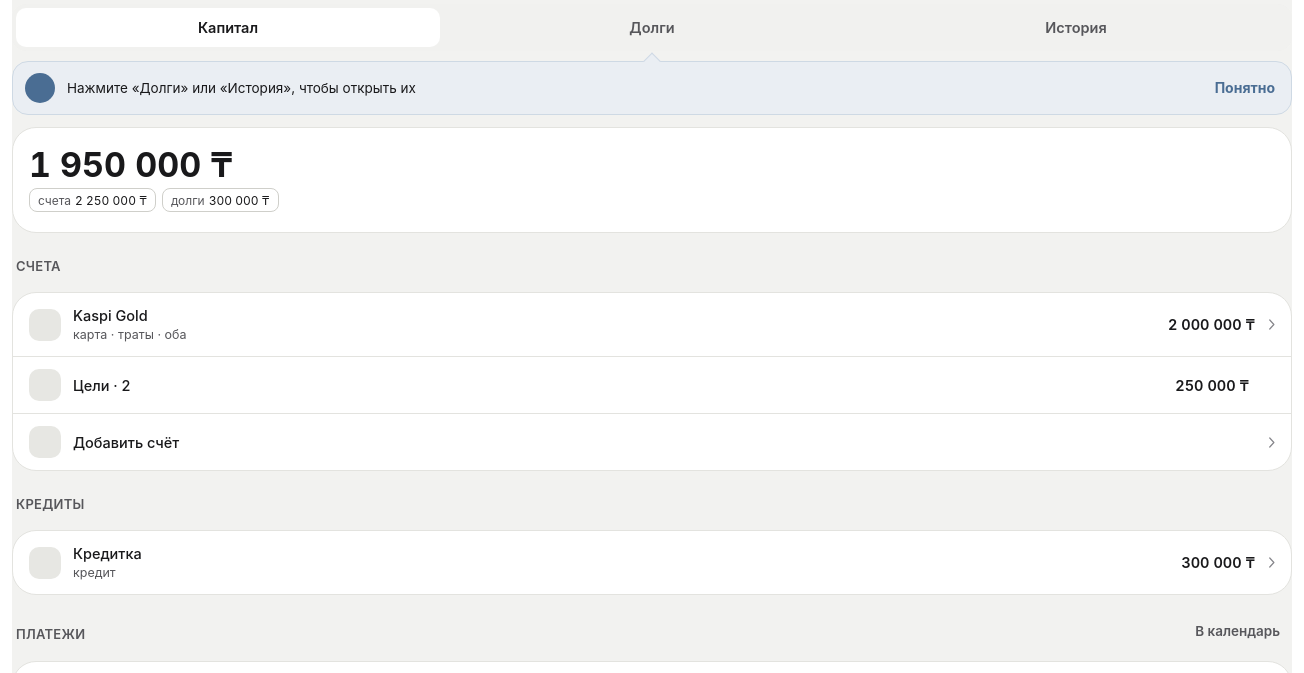
PN-05: плашка Капитала — формула «счета − долги» и аккордеон статистики › переплата меньше 0,05 зарплаты: сумма есть, «0 зарплат» не пишется (критик: шумной цифры нет)
The width and height of the screenshot is (1304, 673).
What coordinates should you click on to do the following:
click the button "1 950 000 ₸ счета 2 250 000 ₸ долги 300 000 ₸"
I would click on:
 (131, 165)
Its box is [12,127,1292,233].
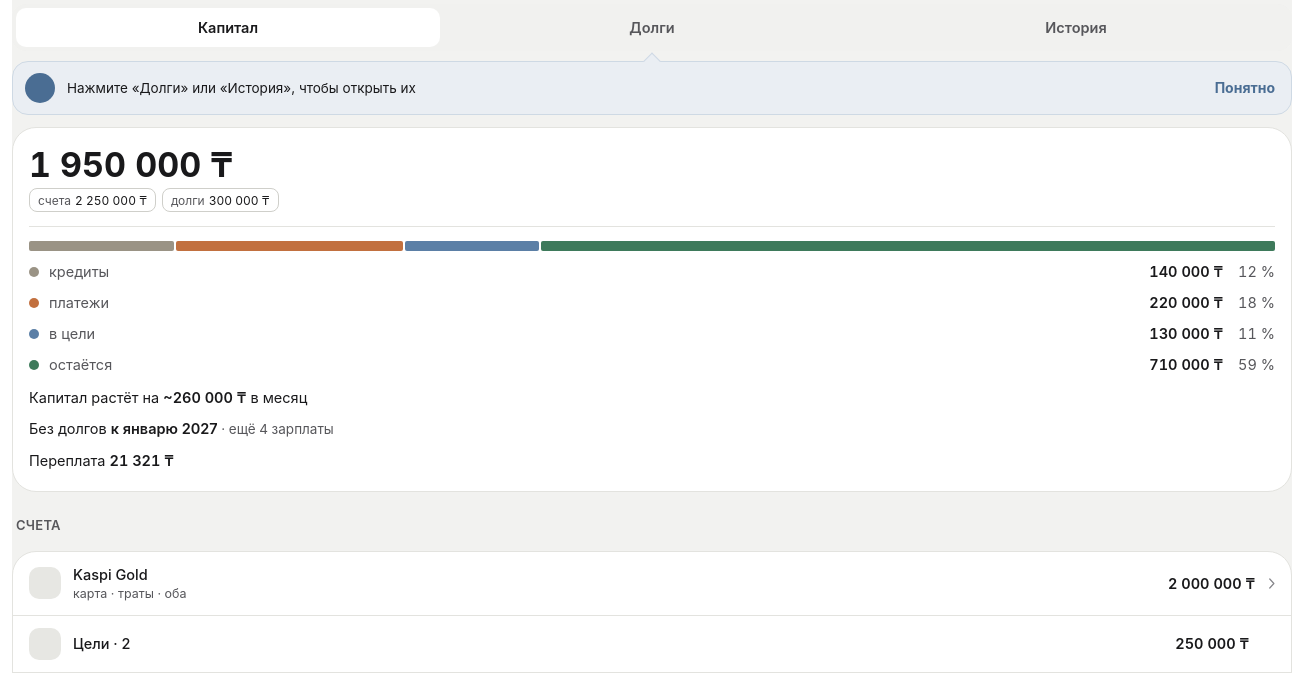
Expected: the element showing "Без долгов к январю 2027 · ещё 4 зарплаты" is shown, [29,420,334,437]
